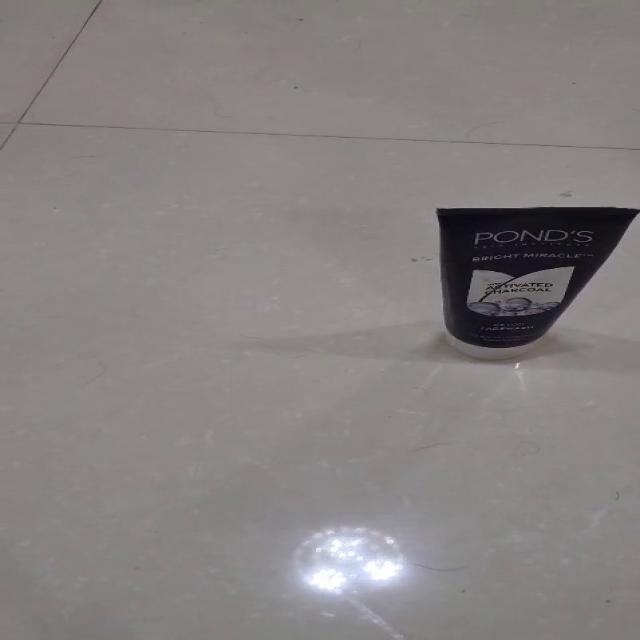plastic: (434, 205, 637, 360)
